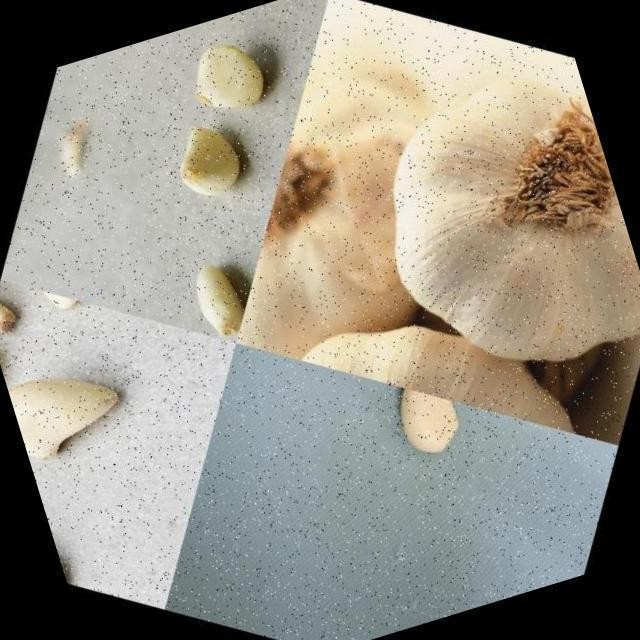garlic: (281, 0, 640, 468), (165, 21, 538, 422), (259, 207, 625, 518), (0, 331, 146, 494), (165, 10, 301, 144), (152, 104, 268, 220), (158, 240, 273, 356), (369, 369, 482, 479), (0, 288, 59, 432)
